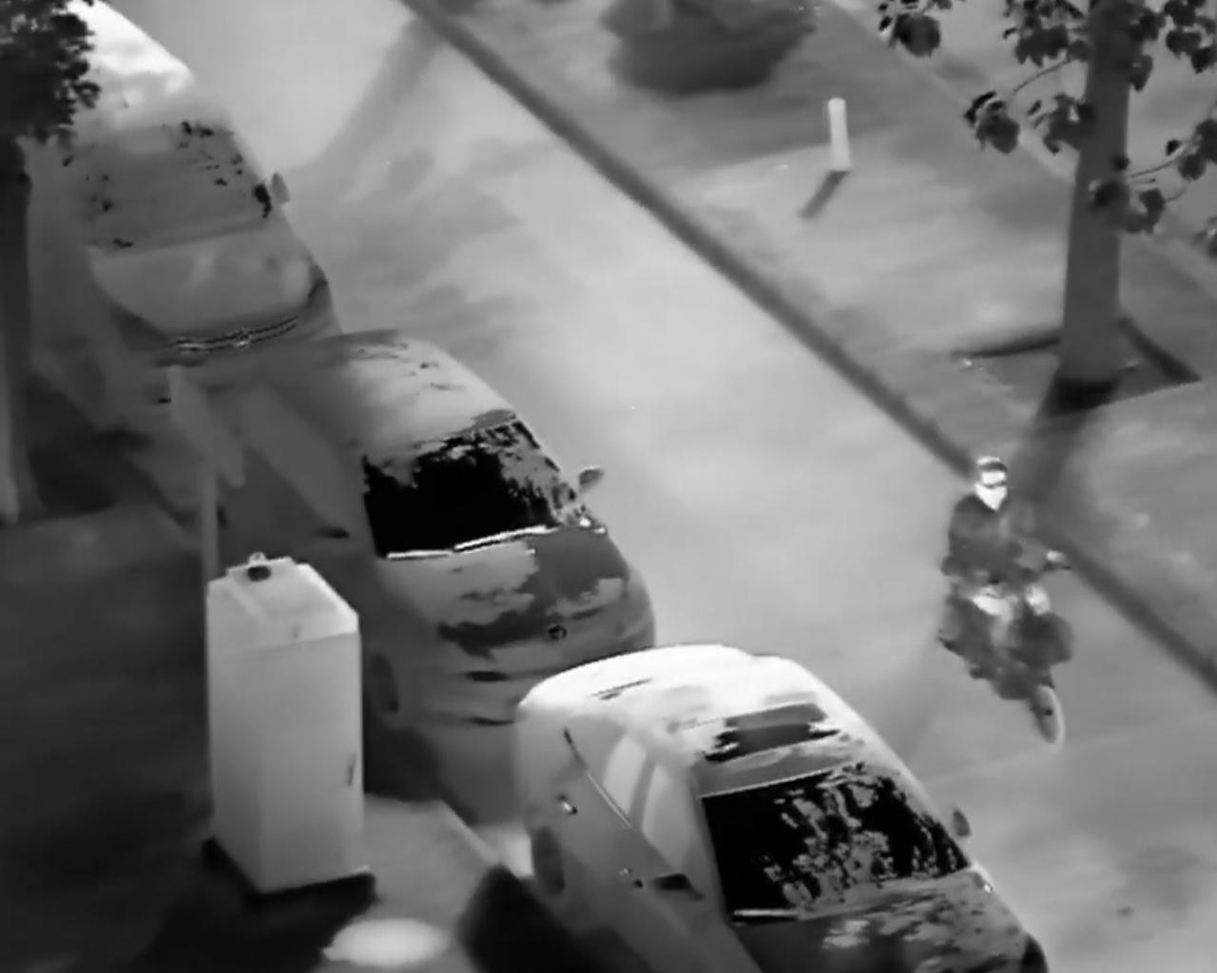person: (943, 453, 1081, 682)
